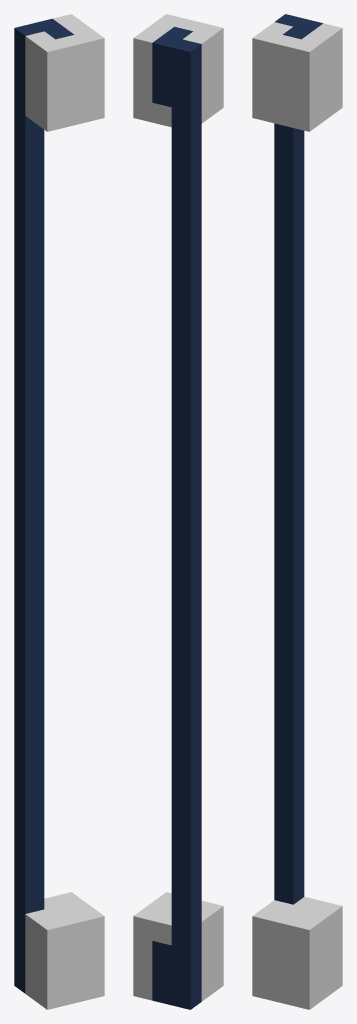
The model's file is CornerOuter_A.obj.
3 views of the same model, side by side, from view 1: azimuth 30°, elevation 25°; view 2: azimuth 150°, elevation 25°; view 3: azimuth 330°, elevation 25° (orthographic).
Bounding box in the file's own units: 0.3 × 4.8 × 0.3.
Materials: 1 (1 with a texture image).
